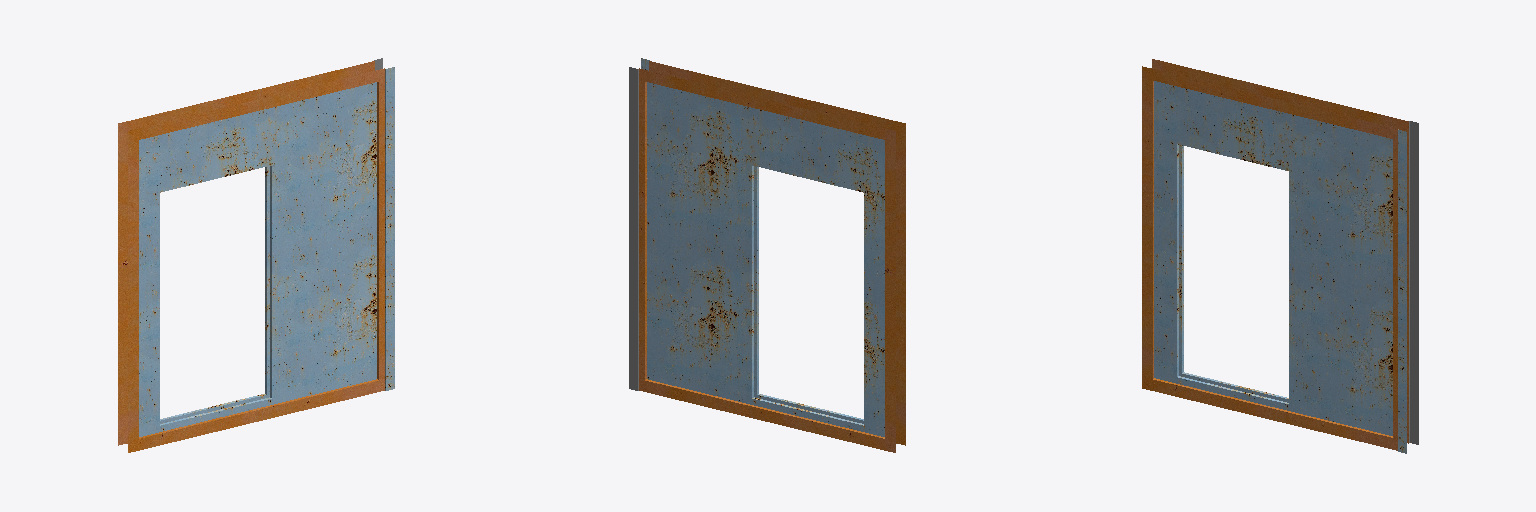
3 views of the same model, side by side, from view 1: azimuth 30°, elevation 25°; view 2: azimuth 150°, elevation 25°; view 3: azimuth 330°, elevation 25° (orthographic).
Parts seen in each view (by area): view 1: garage.006, garage; view 2: garage.006, garage, garage.007; view 3: garage.006, garage, garage.007.
Part boxes in pixels (x1,y1,x2,y2): garage.006: (139,67,394,436); garage: (118,61,384,452); garage.006: (641,58,884,436); garage: (639,61,905,452); garage.007: (629,67,638,390); garage.006: (1154,81,1406,453); garage: (1142,59,1408,450); garage.007: (1409,121,1418,444).
Bounding box in the file's own units: 1.81 × 2.09 × 0.14.
Materials: 3 (2 with a texture image).